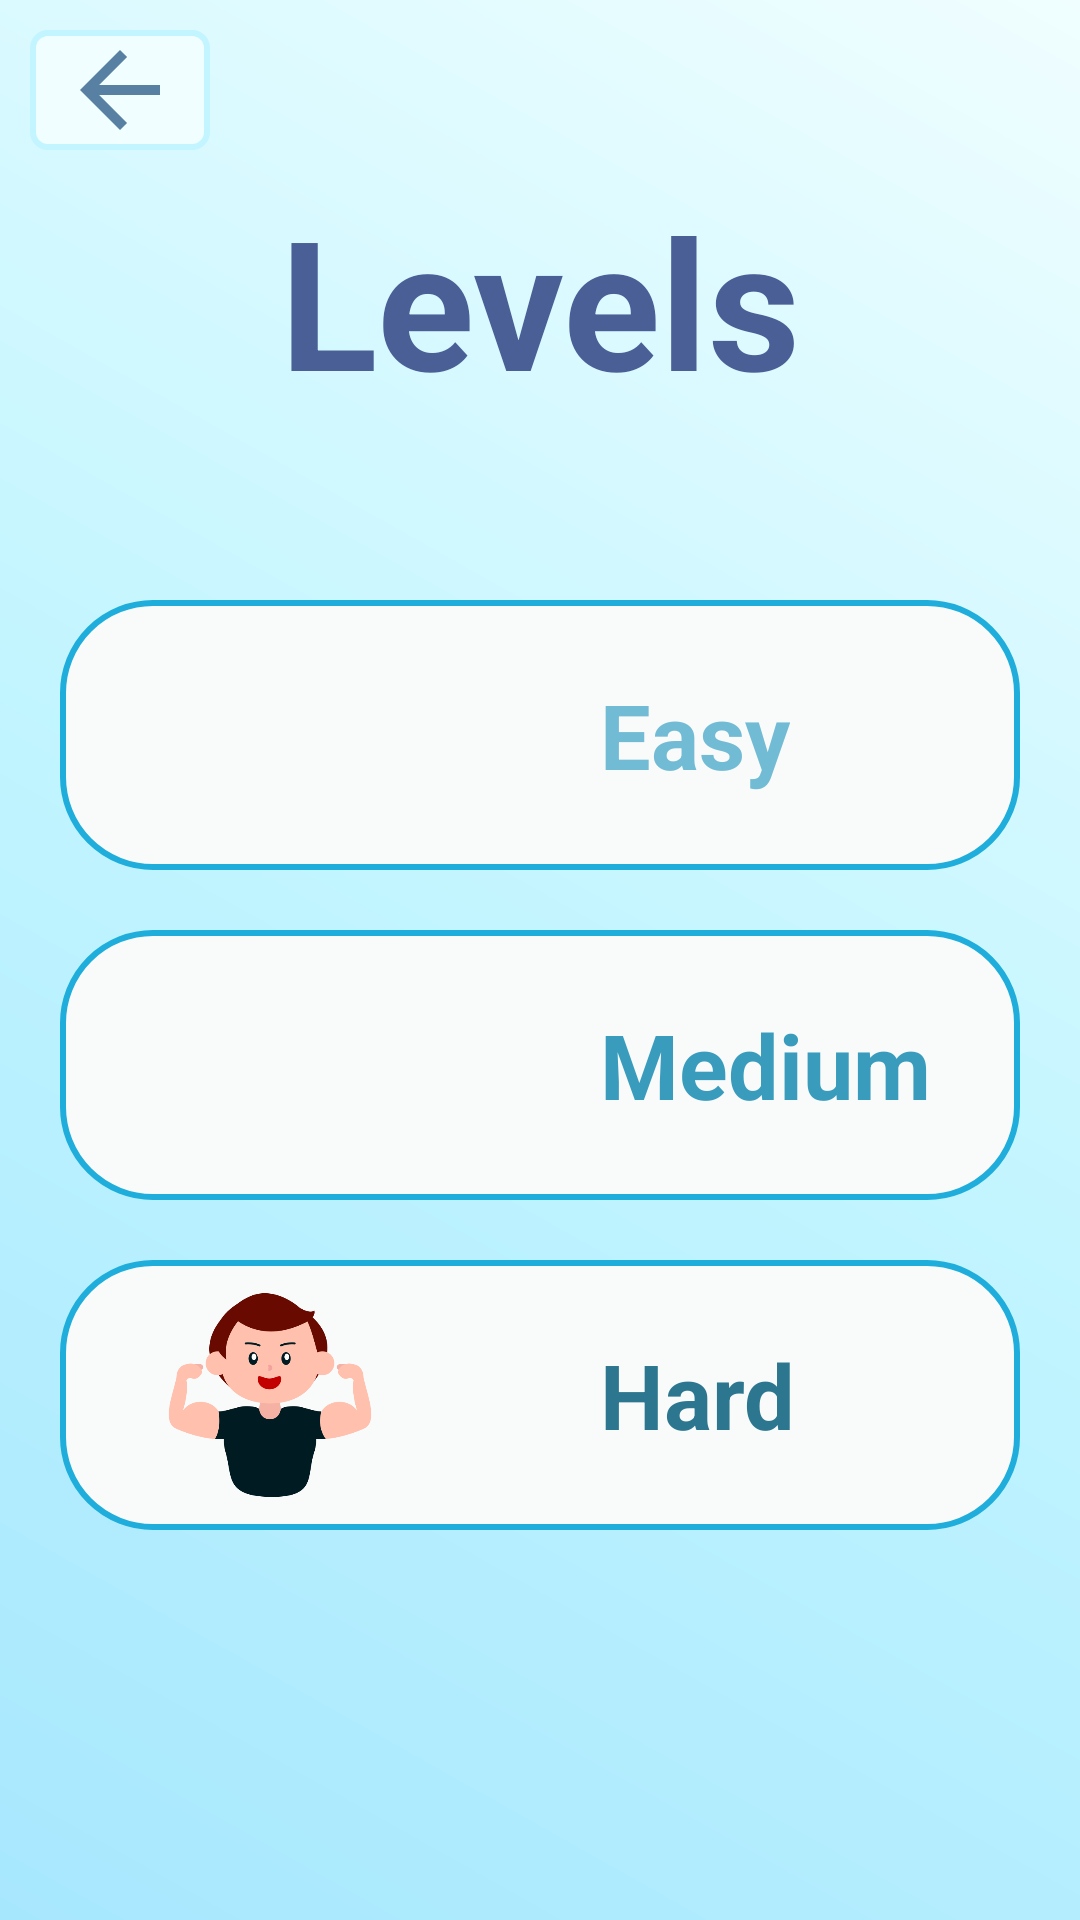

Icons on this 1080 × 1920 Android screen, each with the point to tap as (x,y):
back: (120,90)
level hard: (270,1395)
